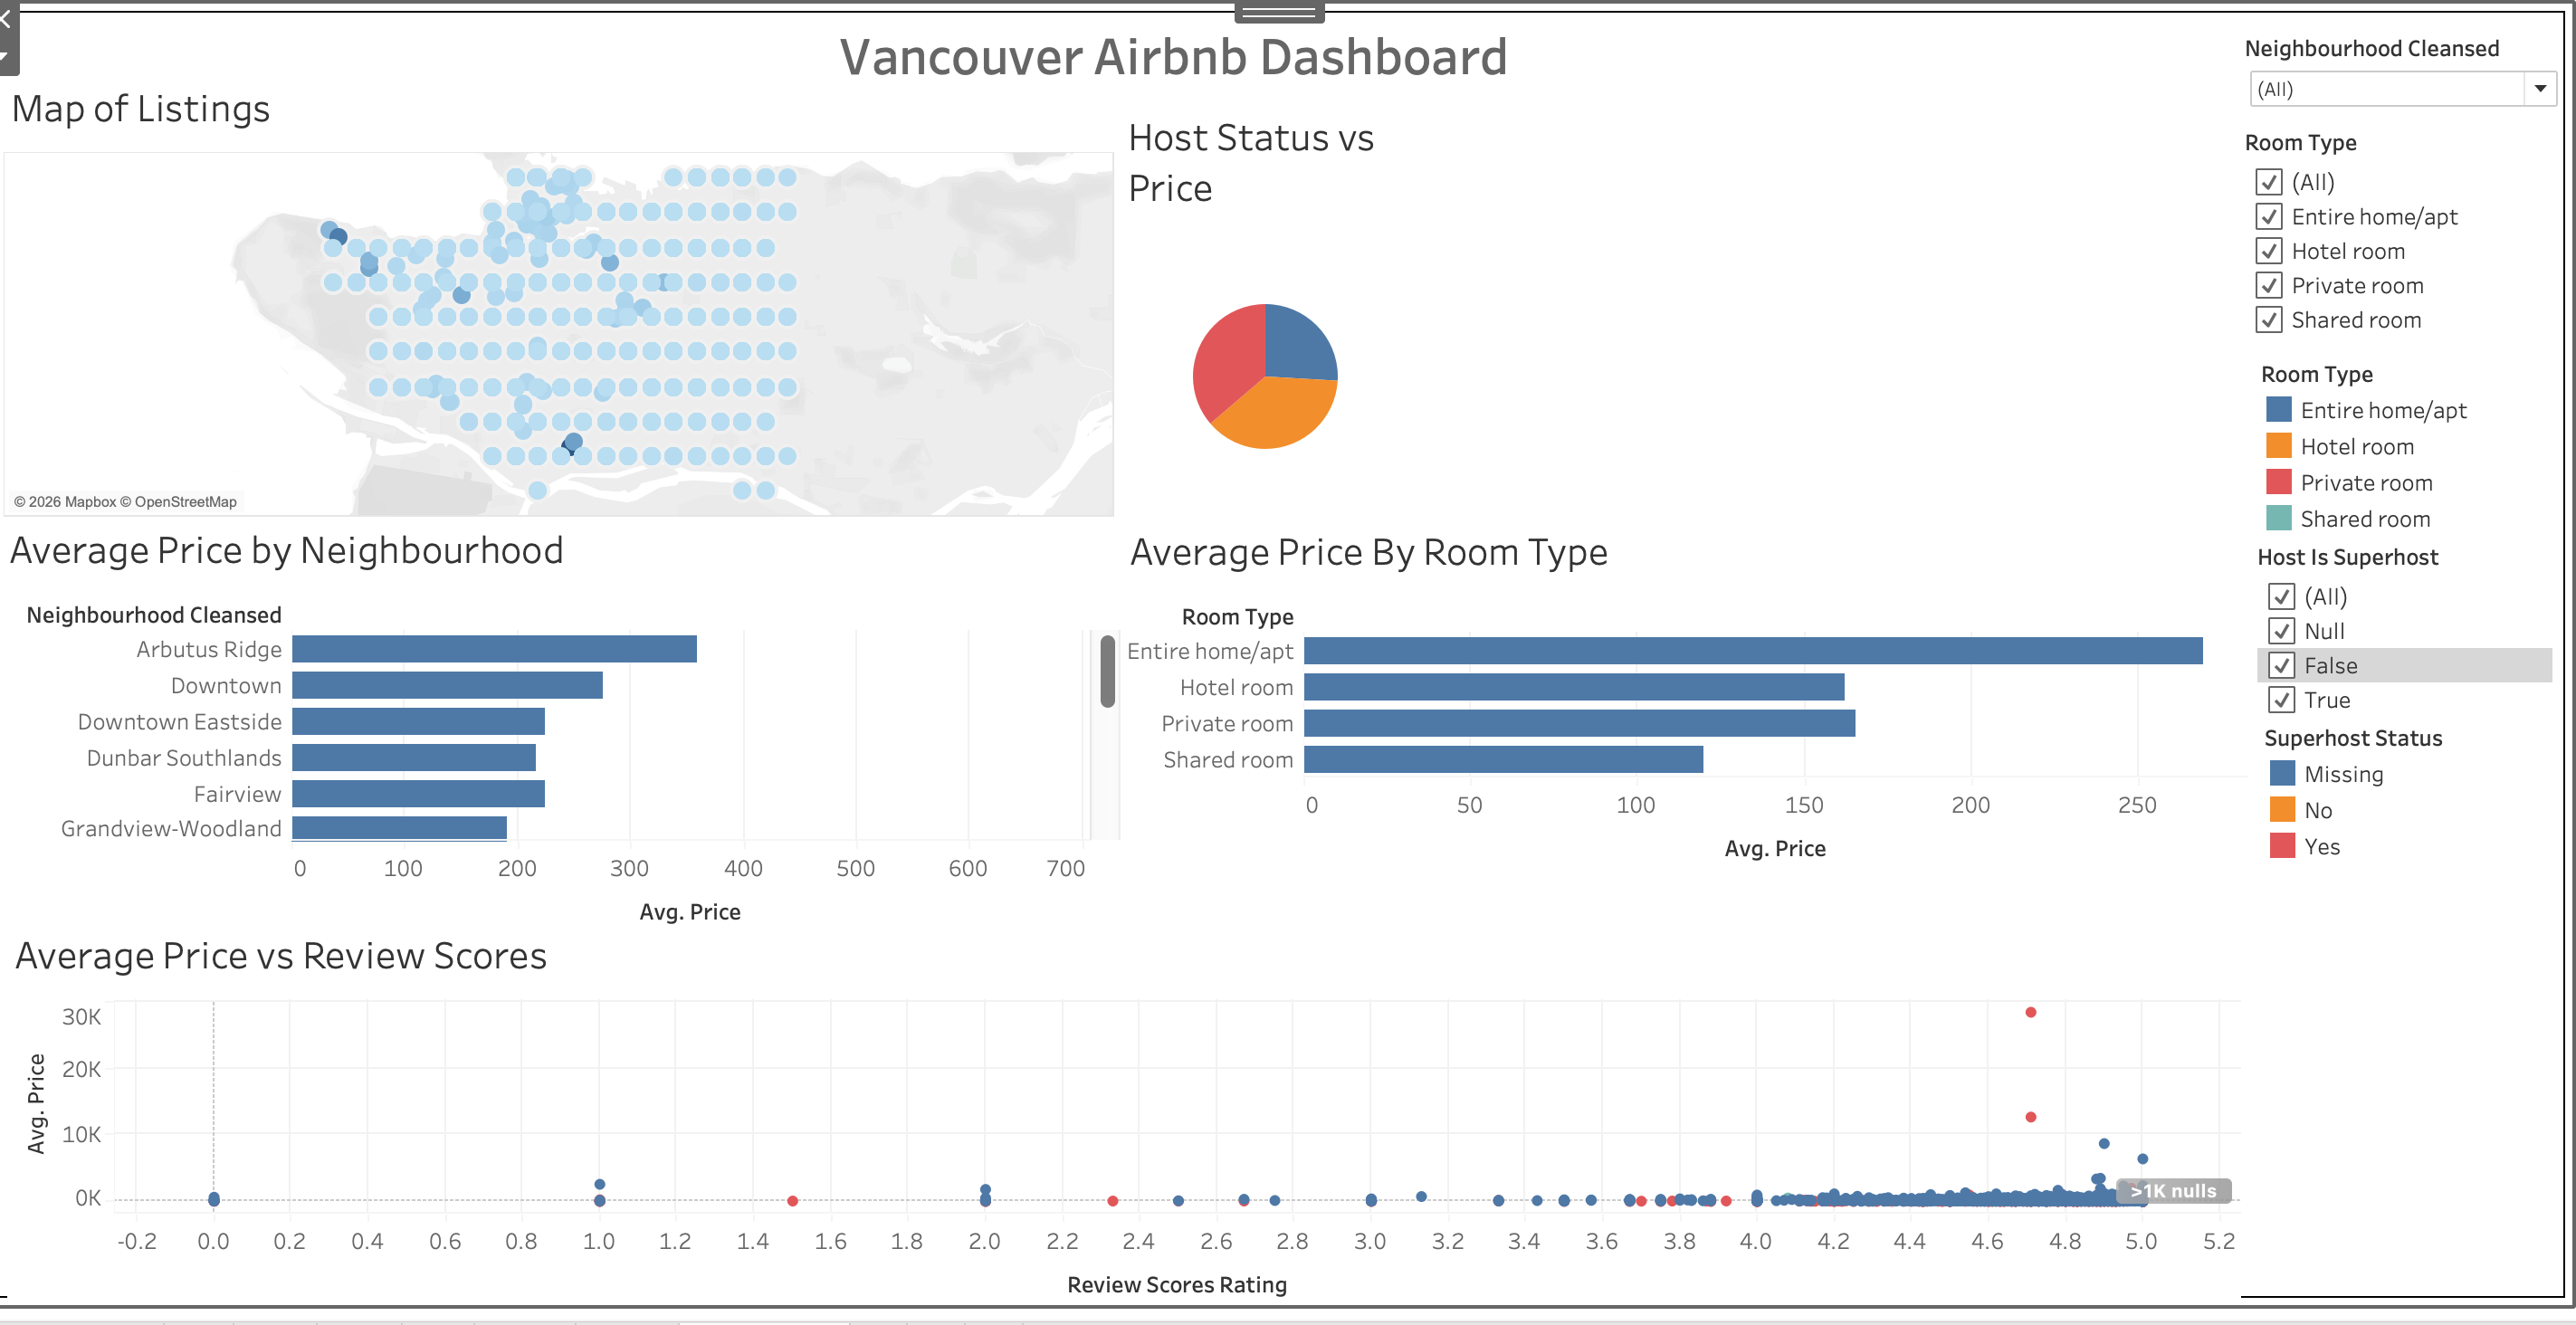

What the dashboard file says about the page in this screenshot:
{"tool":"tableau","page":{"name":"Dashboard","canvas":[1000,1000],"units":"permille","ordinal":0},"visuals":[{"type":"dashboard-object","param":"[com.tableau.addfilters].[0.0.0].[https://extensions.tableauusercontent.com/sand","box":[5.5,10.9,988.9,978.2]},{"type":"filter","title":"Map","param":"[federated.09m85j81gn0q7716obdc419b9g0x].[none:neighbourhood_cleansed:nk]","box":[866.6,27.2,127.1,70.7]},{"type":"worksheet","title":"Map","mark":"Automatic","rows":["latitude"],"cols":["longitude"],"box":[11.8,64,425,333.3]},{"type":"worksheet","title":"Host","mark":"Pie","box":[439.2,85.7,432.1,314.3]},{"type":"filter","title":"Map","param":"[federated.09m85j81gn0q7716obdc419b9g0x].[none:room_type:nk]","box":[866.6,98,127.1,172.8]},{"type":"legend","title":"Scatter","param":"[federated.09m85j81gn0q7716obdc419b9g0x].[none:room_type:nk]","box":[875.3,277.6,111.2,133.3]},{"type":"worksheet","title":"Neigh","mark":"Automatic","rows":["neighbourhood_cleansed"],"cols":["price"],"box":[11.1,395.9,428.1,318.4]},{"type":"worksheet","title":"Room","mark":"Automatic","rows":["room_type"],"cols":["price"],"box":[440,397.3,430.5,325.2]},{"type":"filter","title":"Neigh","param":"[federated.09m85j81gn0q7716obdc419b9g0x].[none:host_is_superhost:nk]","box":[873.7,415,112.8,141.5]},{"type":"legend","title":"Host","param":"[federated.09m85j81gn0q7716obdc419b9g0x].[none:Superhost_Status:nk]","box":[876.8,551,110.6,106.1]},{"type":"worksheet","title":"Scatter","mark":"Automatic","rows":["price"],"cols":["review_scores_rating"],"box":[13.4,700.7,854.7,293.9]}]}

Visuals, with their boxes on the dashboard's canvas, which has no fixed pixel size, in thousandths of its width and height (x1, y1, x2, y2). These are canvas units, not pixel positions in the 2576x1325 screenshot, which may show the page scaled, cropped or inside an application window:
dashboard-object: Rect(6, 11, 994, 989)
"Map" filter: Rect(867, 27, 994, 98)
"Map" worksheet: Rect(12, 64, 437, 397)
"Host" worksheet (Pie marks): Rect(439, 86, 871, 400)
"Map" filter: Rect(867, 98, 994, 271)
"Scatter" legend: Rect(875, 278, 986, 411)
"Neigh" worksheet: Rect(11, 396, 439, 714)
"Room" worksheet: Rect(440, 397, 870, 722)
"Neigh" filter: Rect(874, 415, 986, 556)
"Host" legend: Rect(877, 551, 987, 657)
"Scatter" worksheet: Rect(13, 701, 868, 995)
